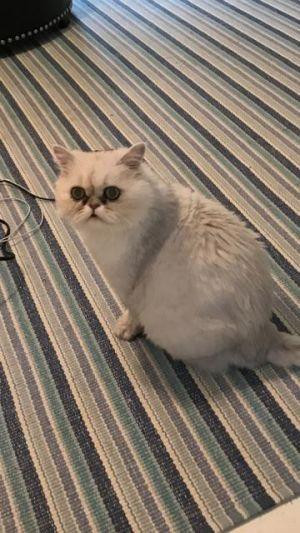persian: (42, 128, 170, 260)
